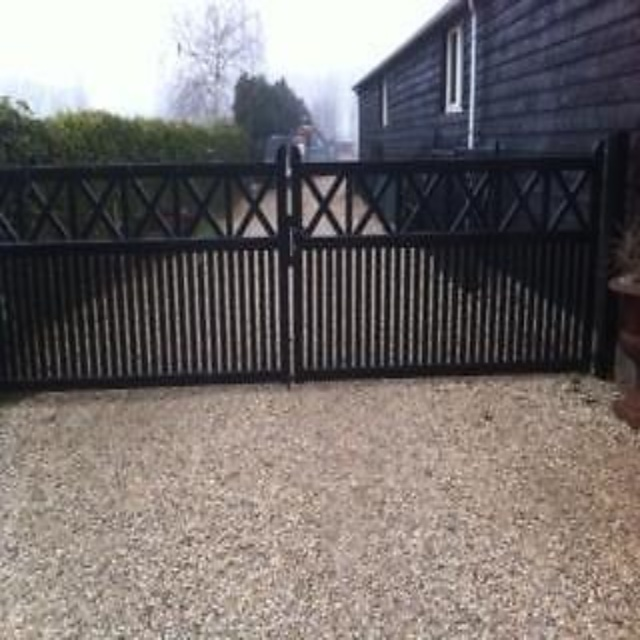obstacle: (90, 120, 640, 492)
